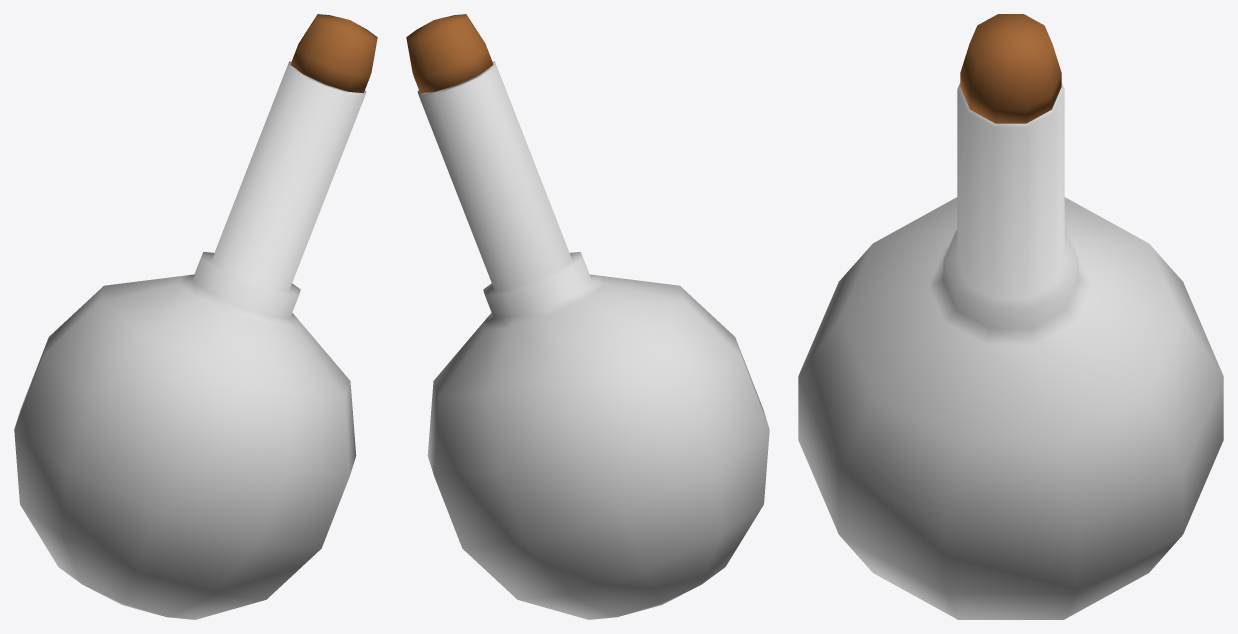
The model's file is Potion.fbx.
3 renders of one model, left to right at view 1: azimuth 30°, elevation 25°; view 2: azimuth 150°, elevation 25°; view 3: azimuth 270°, elevation 25°, orthographic. The views are drawn at different scales.
Visible parts, largest first — view 1: Sphere.001; view 2: Sphere.001; view 3: Sphere.001.
Boxes of the visible parts, x1=… form: Sphere.001: x1=14, y1=14, x2=377, y2=619; Sphere.001: x1=406, y1=14, x2=769, y2=619; Sphere.001: x1=798, y1=14, x2=1223, y2=619.
Size of the model in its own units: 180 by 284 by 163.
